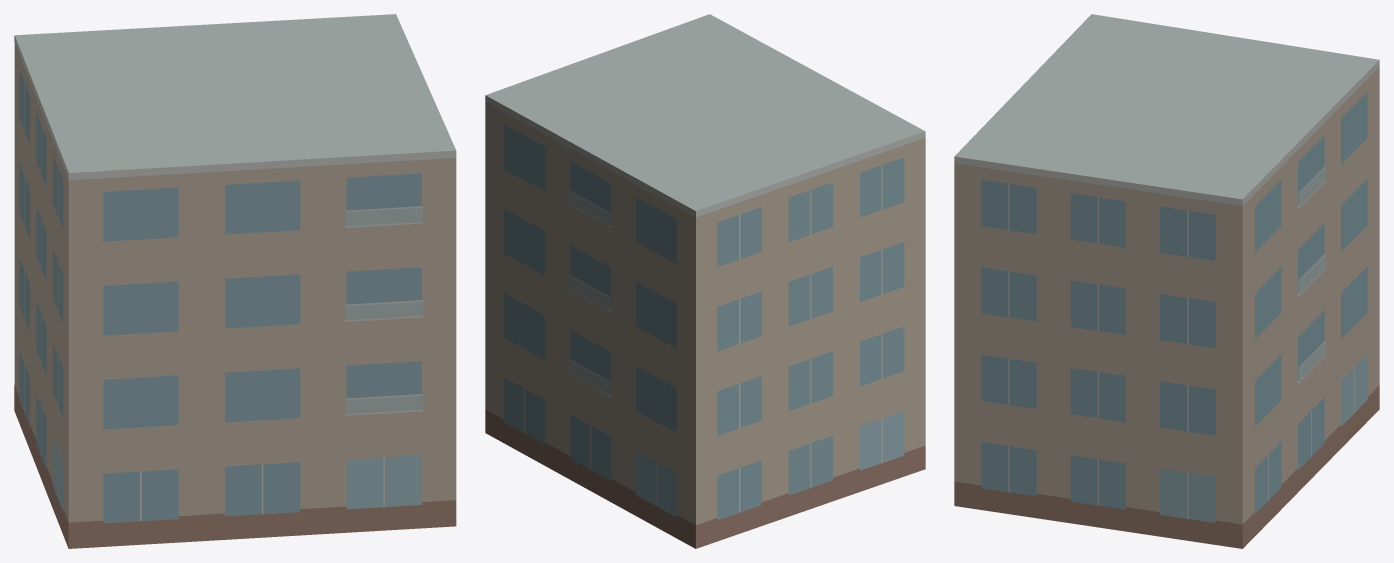
The model's file is survey-upis-32879669.glb.
3 views of the same model, side by side, from view 1: azimuth 30°, elevation 25°; view 2: azimuth 150°, elevation 25°; view 3: azimuth 270°, elevation 25° (orthographic). The views are drawn at different scales.
Visible parts, largest first — view 1: survey-upis-32879669.tmp; view 2: survey-upis-32879669.tmp; view 3: survey-upis-32879669.tmp.
Part boxes in pixels (x1=…): survey-upis-32879669.tmp: x1=14, y1=14, x2=456, y2=548; survey-upis-32879669.tmp: x1=485, y1=14, x2=925, y2=548; survey-upis-32879669.tmp: x1=954, y1=14, x2=1379, y2=548.
Size of the model in its own units: 14.46 by 12.7 by 14.02.
